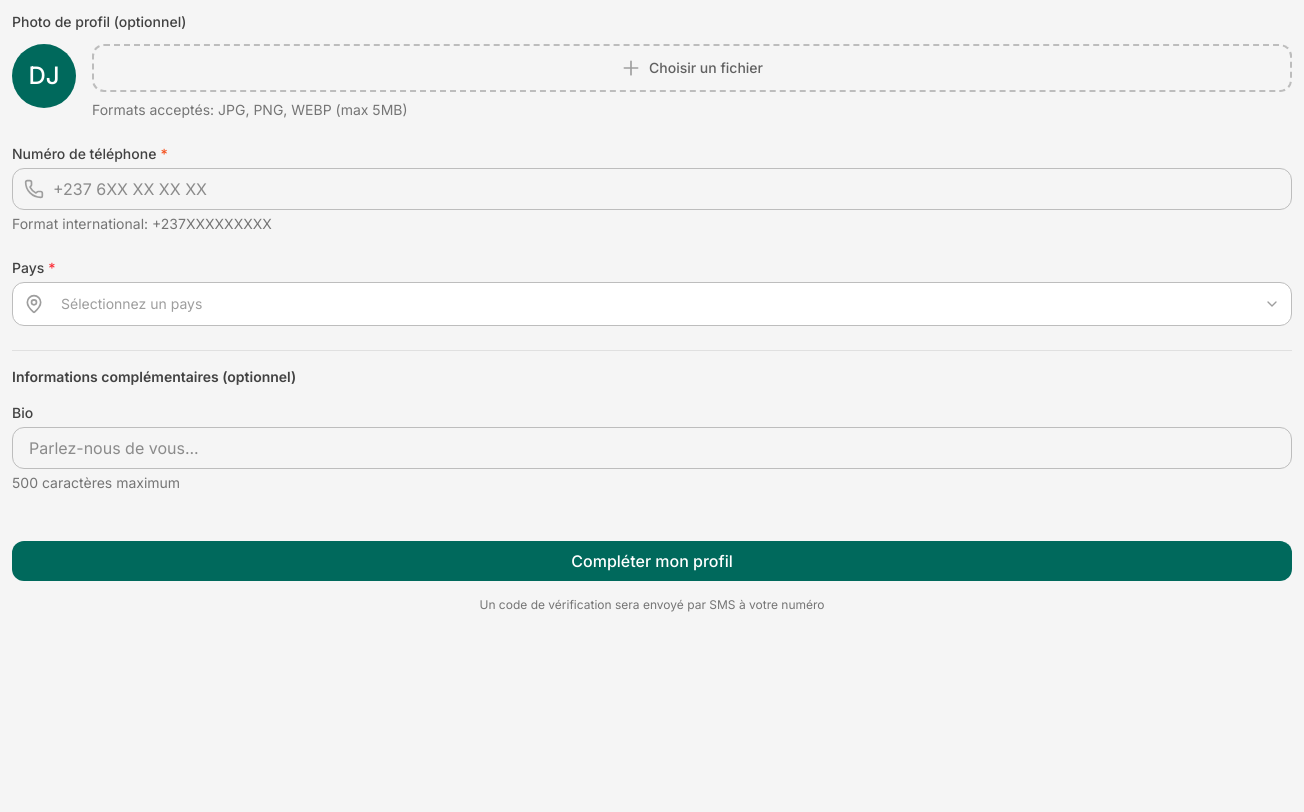
it: CompleteProfileForm - logique metier › bascule vers le format postal (Adresse/Code postal) pour un pays hors Afrique
Click the button "Sélectionnez un pays" at coordinates (132, 304), box [12,282,1292,326]
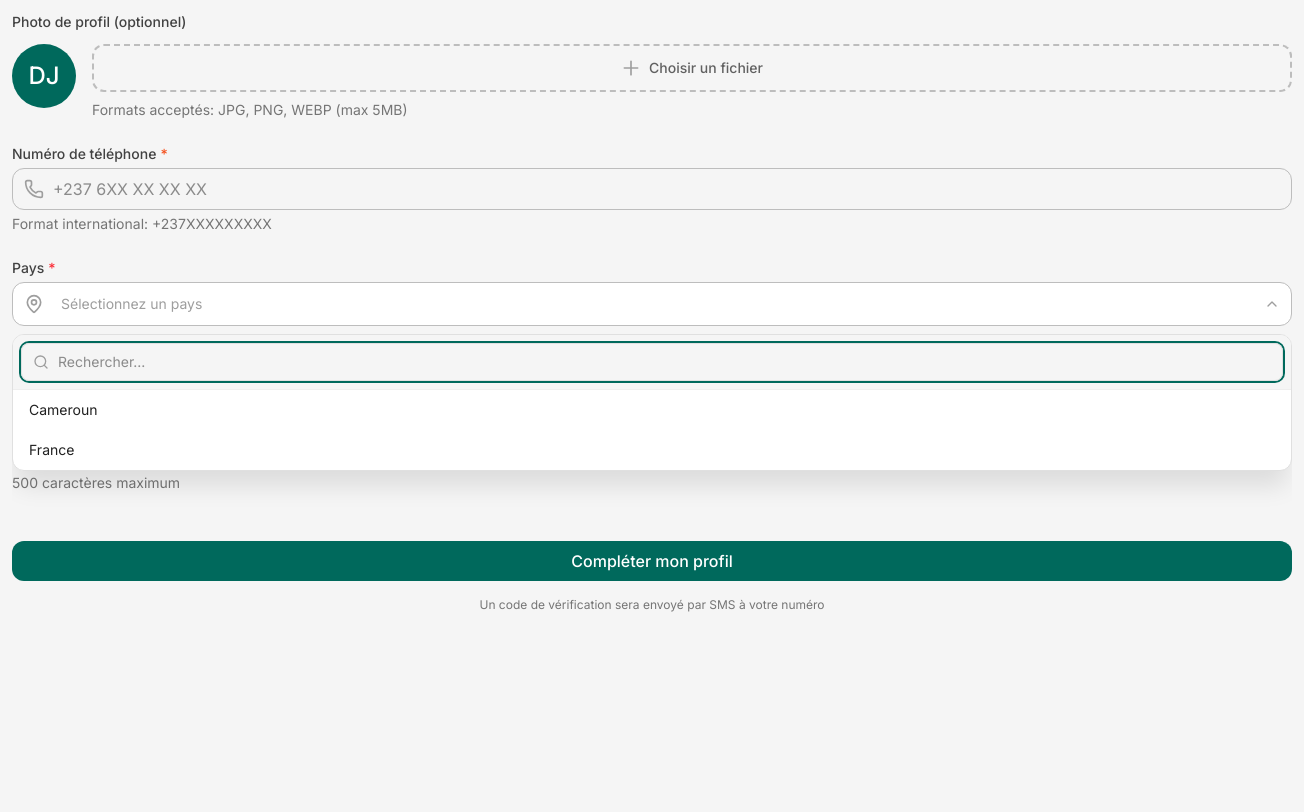
Click the button "France" at coordinates (52, 450), box [13,430,1291,470]
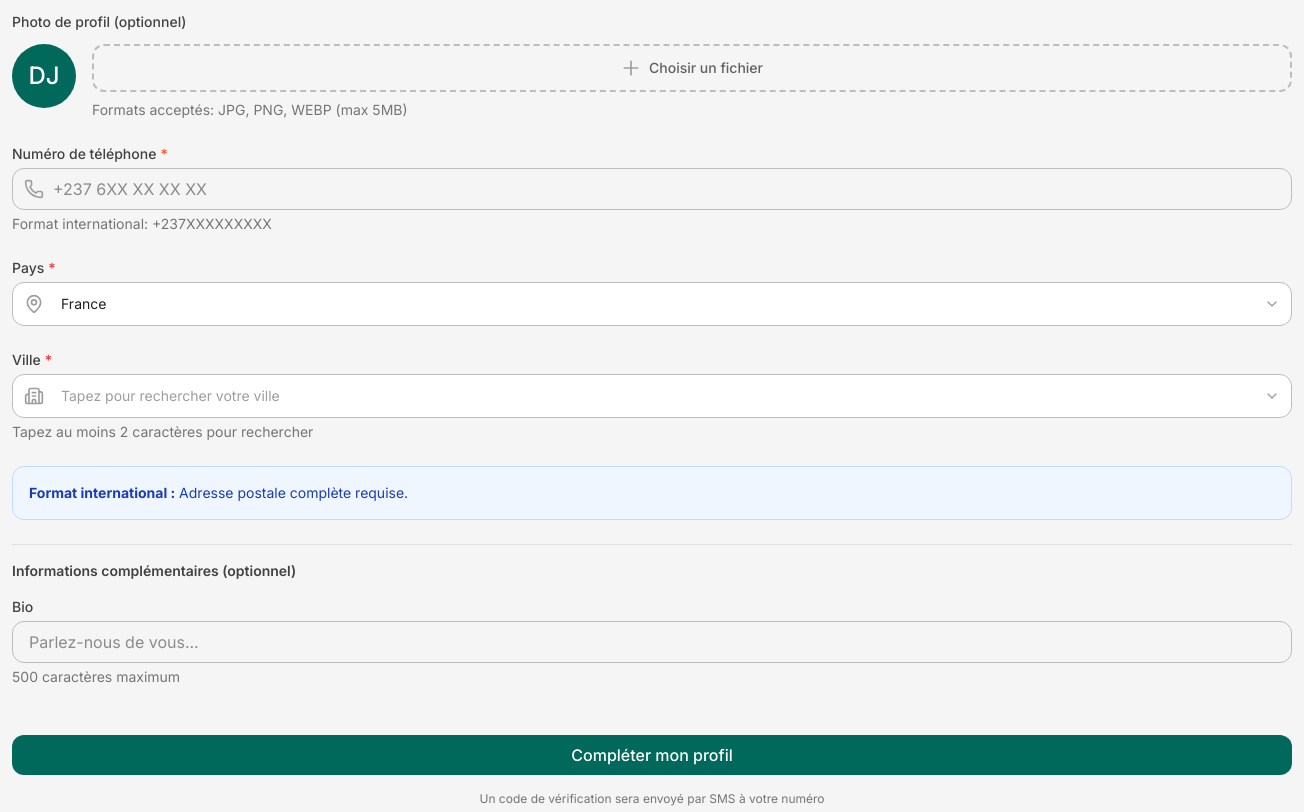
Click the button "Tapez pour rechercher votre ville" at coordinates (170, 396), box [12,374,1292,418]
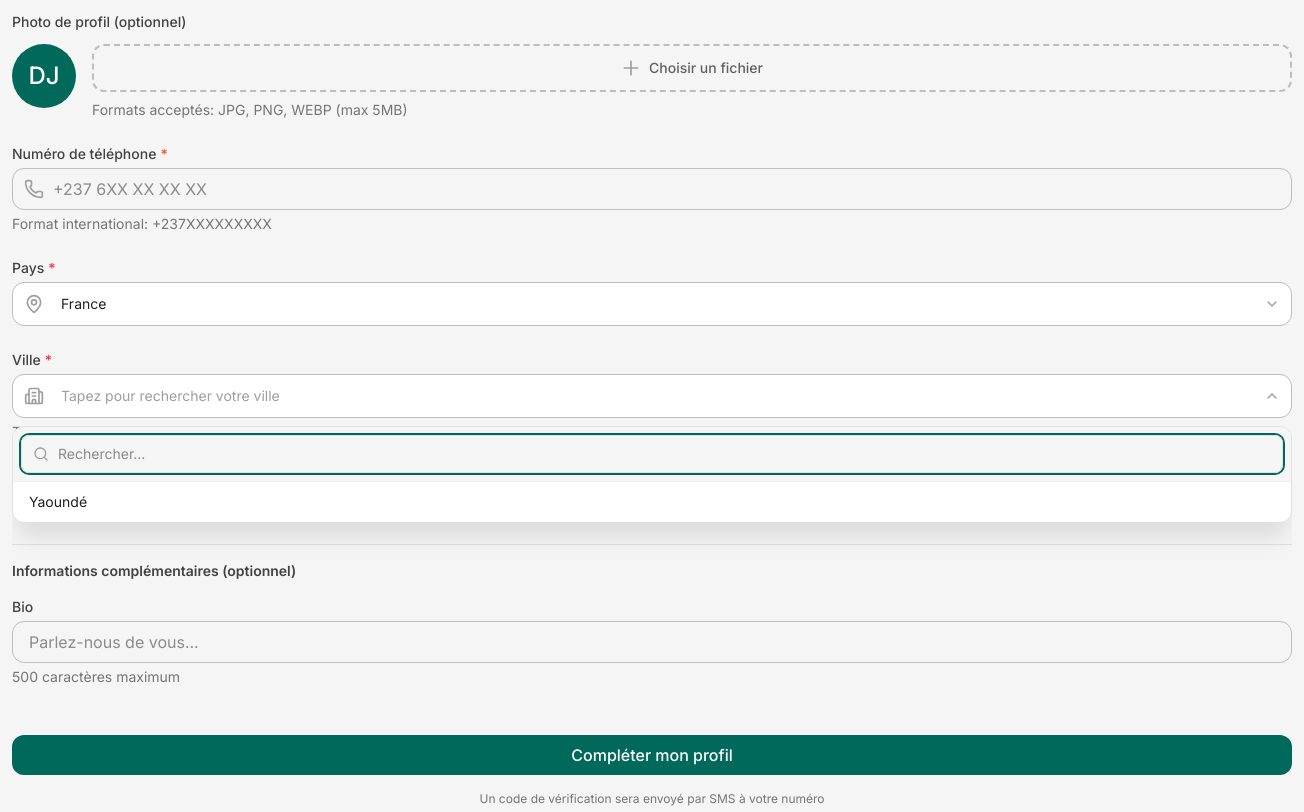
Click the button "Yaoundé" at coordinates (58, 502), box [13,482,1291,522]
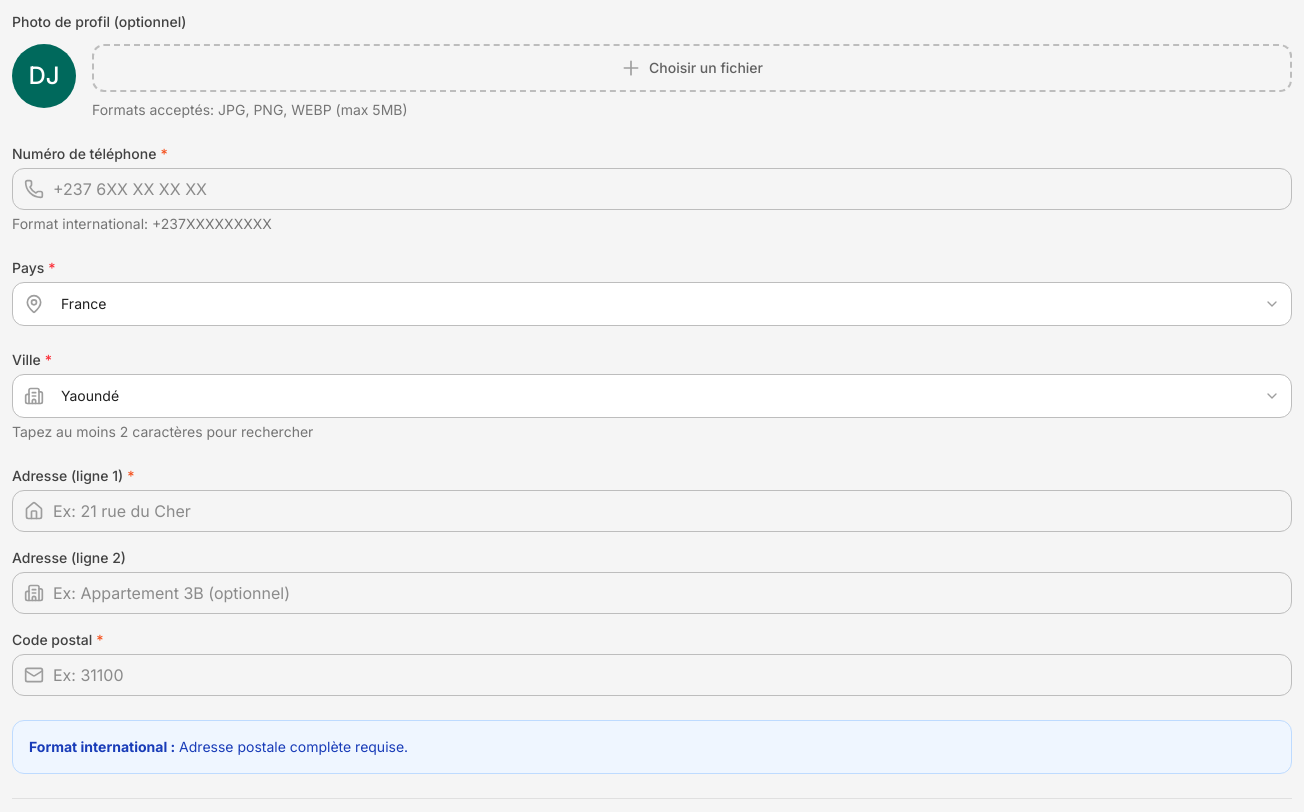
expect the field labelled "Adresse (ligne 1)*" is shown: met, box [12,490,1292,532]
expect the field labelled "Code postal*" is shown: met, box [12,654,1292,696]
